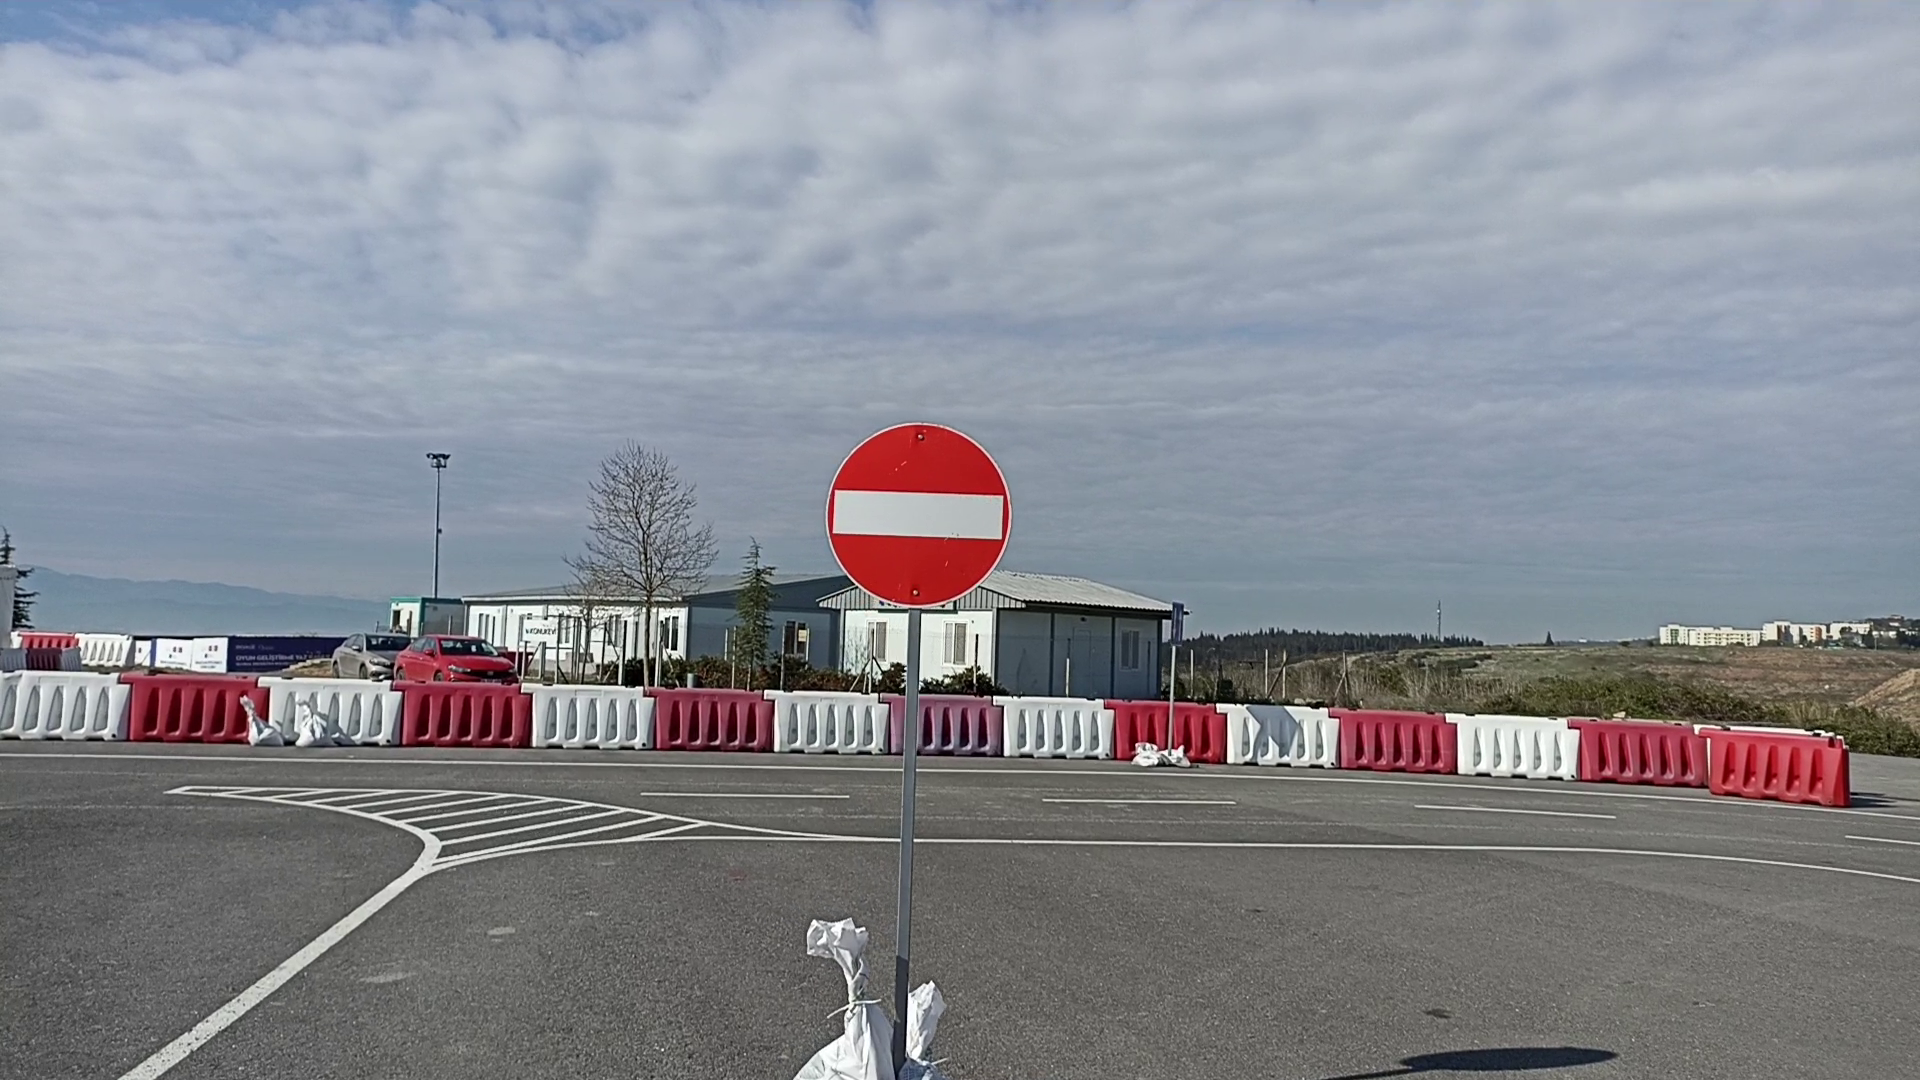noentryway: (820, 417, 1017, 607)
